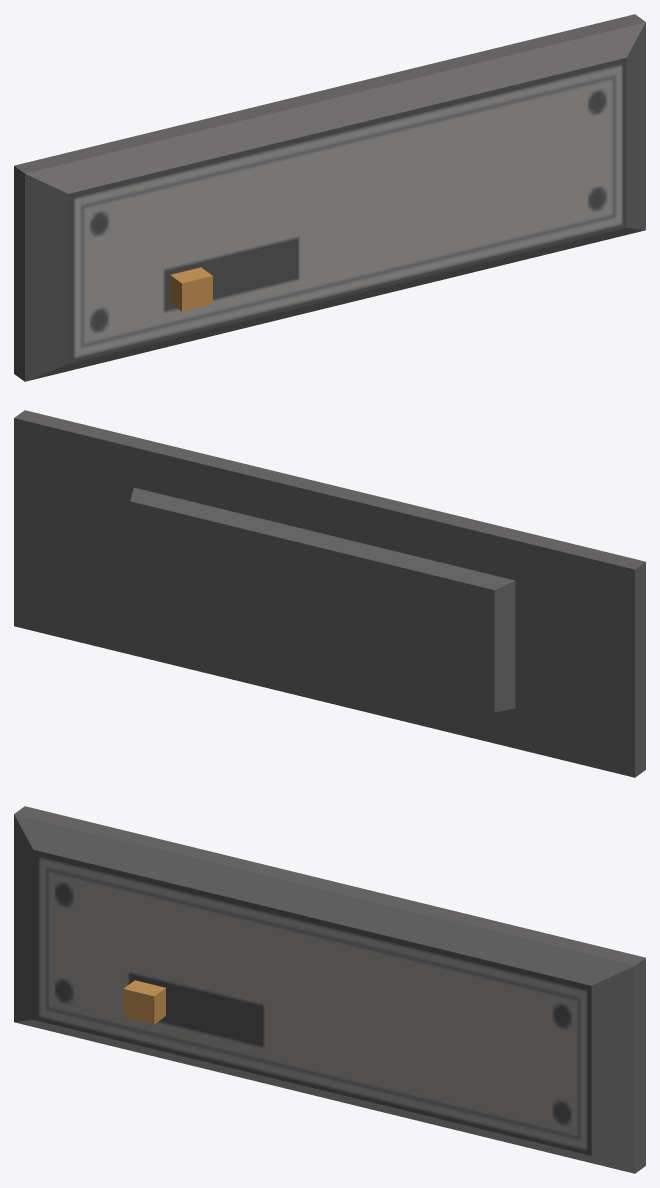
Rendered from Prop_SafeDepositBox_Cover_03.glb.
The picture shows the model from 3 angles, top to bottom: view 1: azimuth 30°, elevation 25°; view 2: azimuth 150°, elevation 25°; view 3: azimuth 330°, elevation 25°; orthographic projection.
Visible parts, largest first — view 1: SM_Prop_SafeDepositBox_Cover_03; view 2: SM_Prop_SafeDepositBox_Cover_03; view 3: SM_Prop_SafeDepositBox_Cover_03.
Boxes of the visible parts, x1,y1,x2,y2 form: SM_Prop_SafeDepositBox_Cover_03: [14, 14, 645, 381]; SM_Prop_SafeDepositBox_Cover_03: [14, 410, 645, 777]; SM_Prop_SafeDepositBox_Cover_03: [14, 806, 645, 1173].
Size of the model in its own units: 0.5966 by 0.191 by 0.0779.
1 material, 1 textured.
